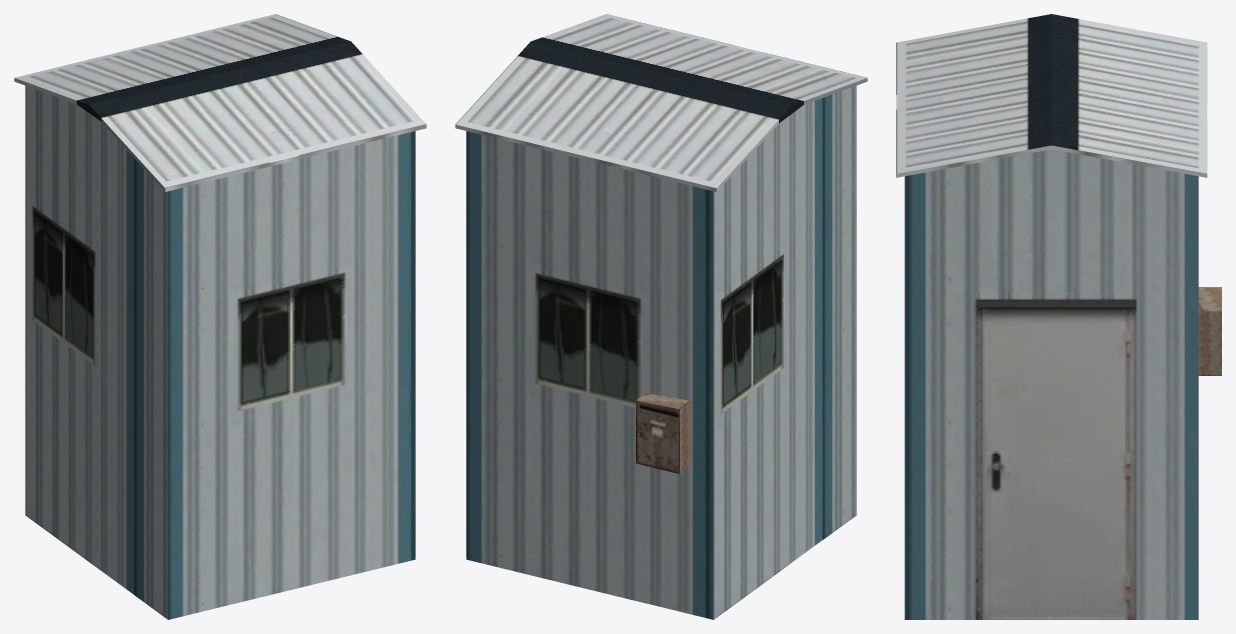
File: ChimNirBudke.gltf
3 renders of one model, left to right at view 1: azimuth 30°, elevation 25°; view 2: azimuth 150°, elevation 25°; view 3: azimuth 270°, elevation 25°, orthographic. The views are drawn at different scales.
Parts seen in each view (by area): view 1: node1; view 2: node1; view 3: node1.
Boxes of the visible parts, x1=… form: node1: x1=14, y1=14, x2=426, y2=619; node1: x1=455, y1=14, x2=867, y2=619; node1: x1=896, y1=14, x2=1221, y2=619.
Bounding box in the file's own units: 1.48 × 2.51 × 1.55.
